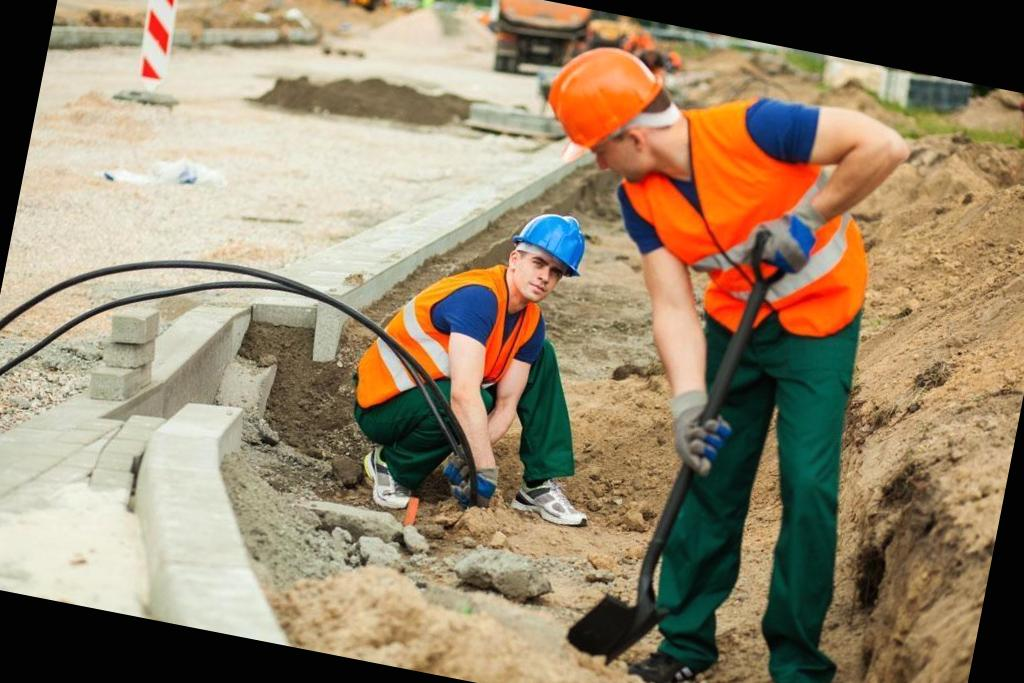helmet: (529, 37, 666, 181), (502, 203, 594, 288)
person: (432, 26, 962, 683), (328, 174, 604, 536)
